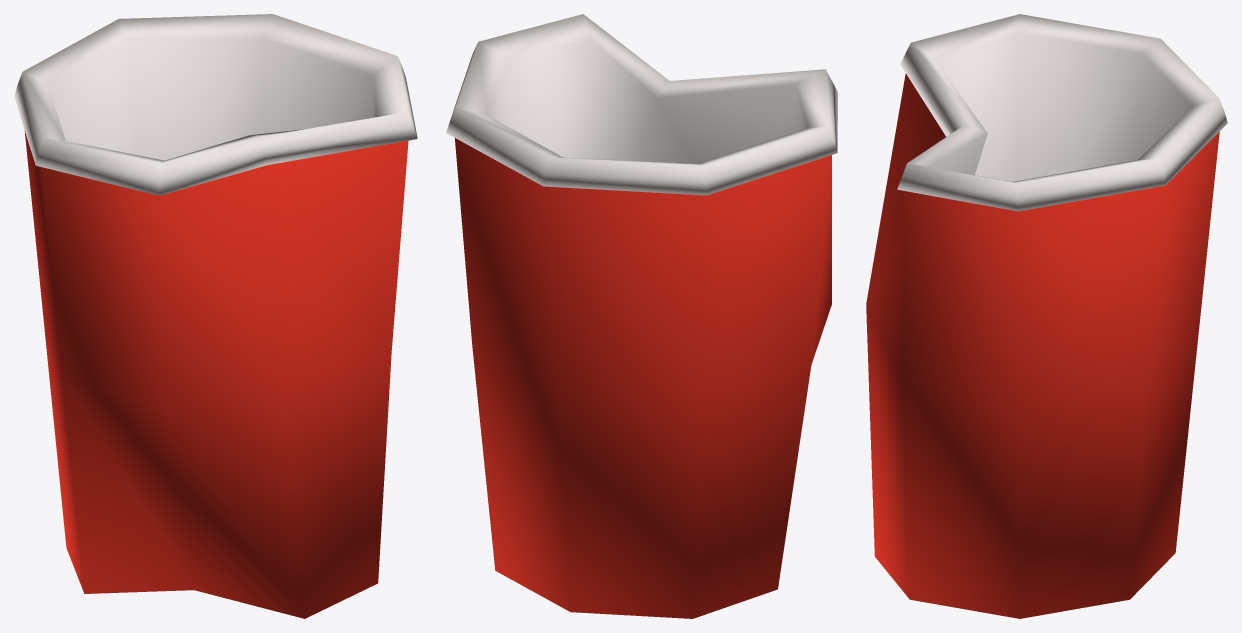
The model's file is cup.glb.
3 renders of one model, left to right at view 1: azimuth 30°, elevation 25°; view 2: azimuth 150°, elevation 25°; view 3: azimuth 270°, elevation 25°, orthographic. The views are drawn at different scales.
Visible parts, largest first — view 1: Cylinder.001; view 2: Cylinder.001; view 3: Cylinder.001.
Boxes of the visible parts, box(x1,y1,x2,y2) form: Cylinder.001: box(14, 14, 417, 618); Cylinder.001: box(446, 14, 837, 618); Cylinder.001: box(866, 14, 1227, 618).
Size of the model in its own units: 2.04 by 2.49 by 1.79.
